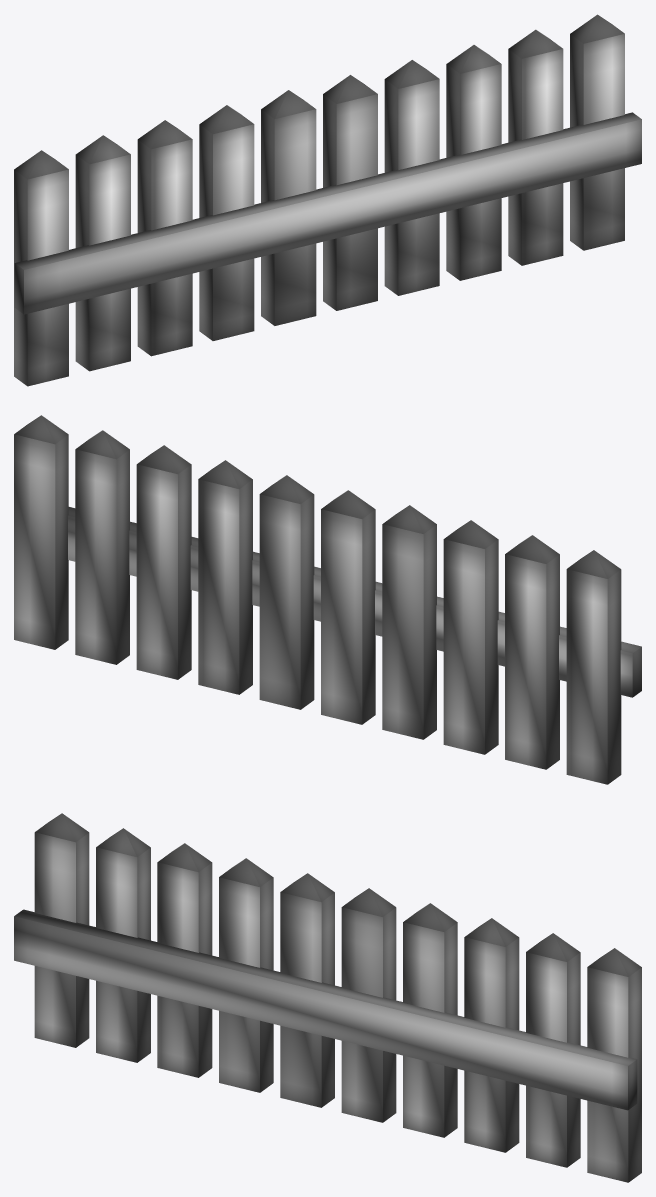
File: Fence-02.fbx
3 renders of one model, top to bottom at view 1: azimuth 30°, elevation 25°; view 2: azimuth 150°, elevation 25°; view 3: azimuth 330°, elevation 25°, orthographic.
Parts seen in each view (by area): view 1: Fence-02; view 2: Fence-02; view 3: Fence-02.
Part boxes in pixels (<box>): Fence-02: <box>14,14,641,386</box>; Fence-02: <box>14,415,641,784</box>; Fence-02: <box>14,813,641,1182</box>.
Size of the model in its own units: 1 by 0.35 by 0.0625.
